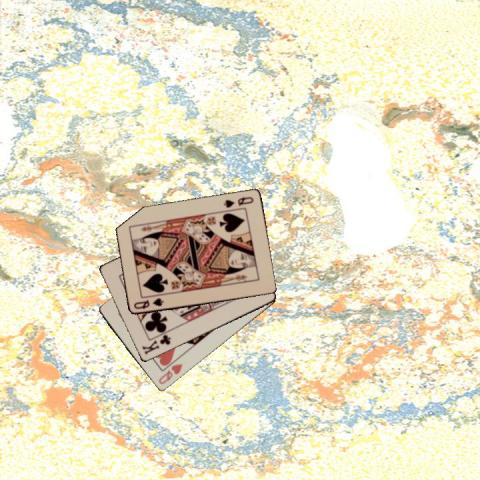Kc: (139, 332, 172, 356)
Qh: (155, 361, 184, 386)
Qs: (131, 295, 164, 311), (221, 194, 255, 209)
